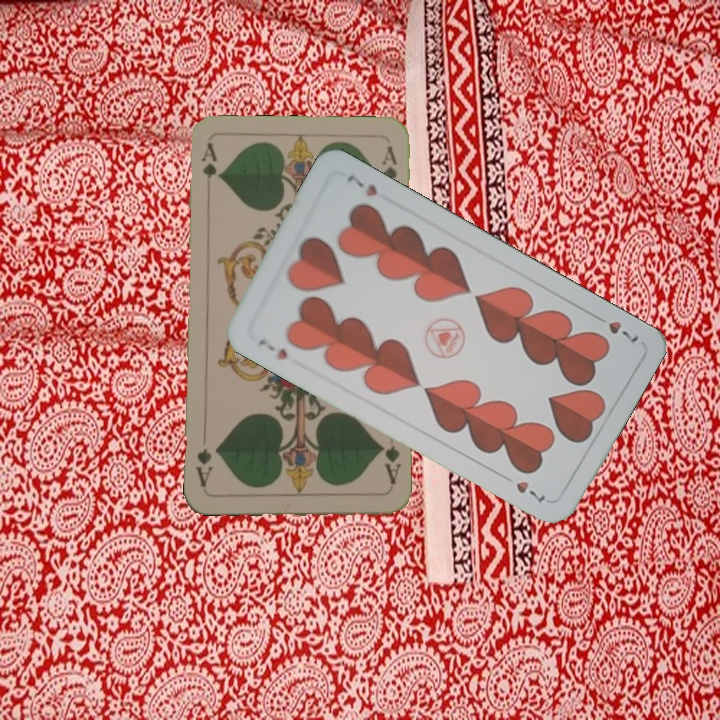GA: (376, 440, 403, 487), (197, 140, 220, 181)
H7: (589, 310, 641, 345), (254, 334, 290, 363)
